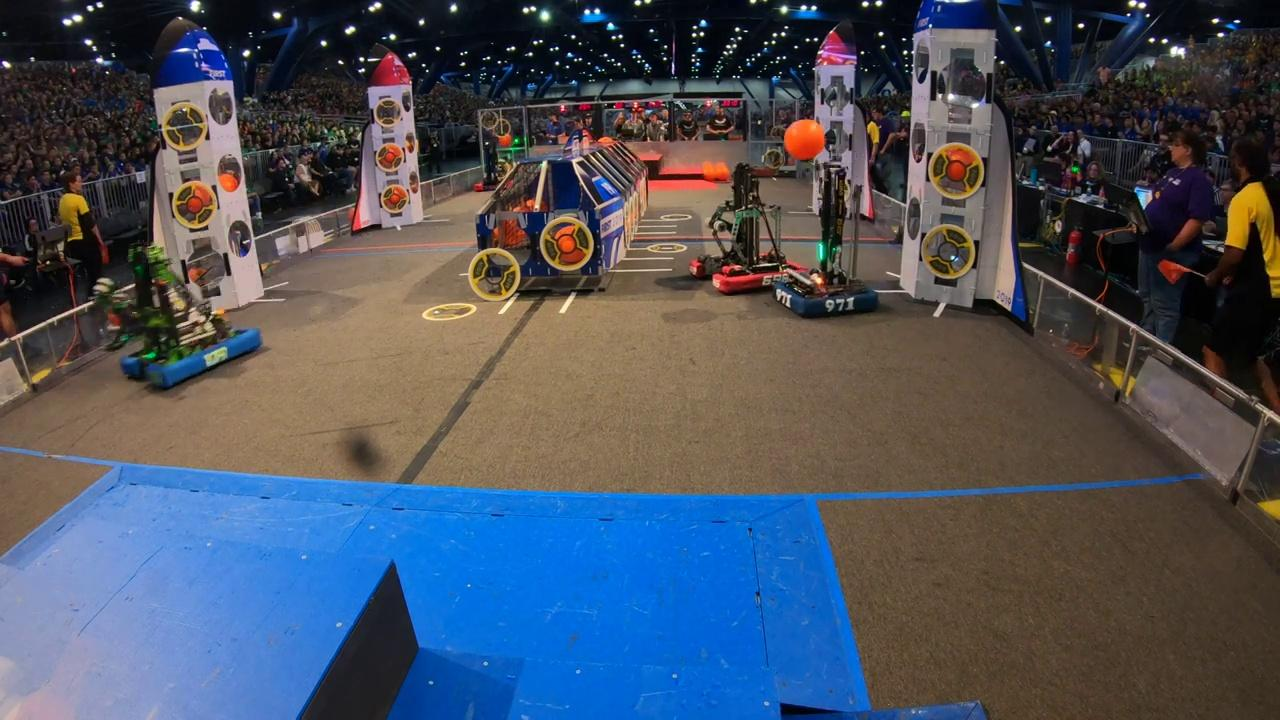robot: (90, 245, 266, 390), (768, 118, 882, 321), (688, 157, 805, 293)
